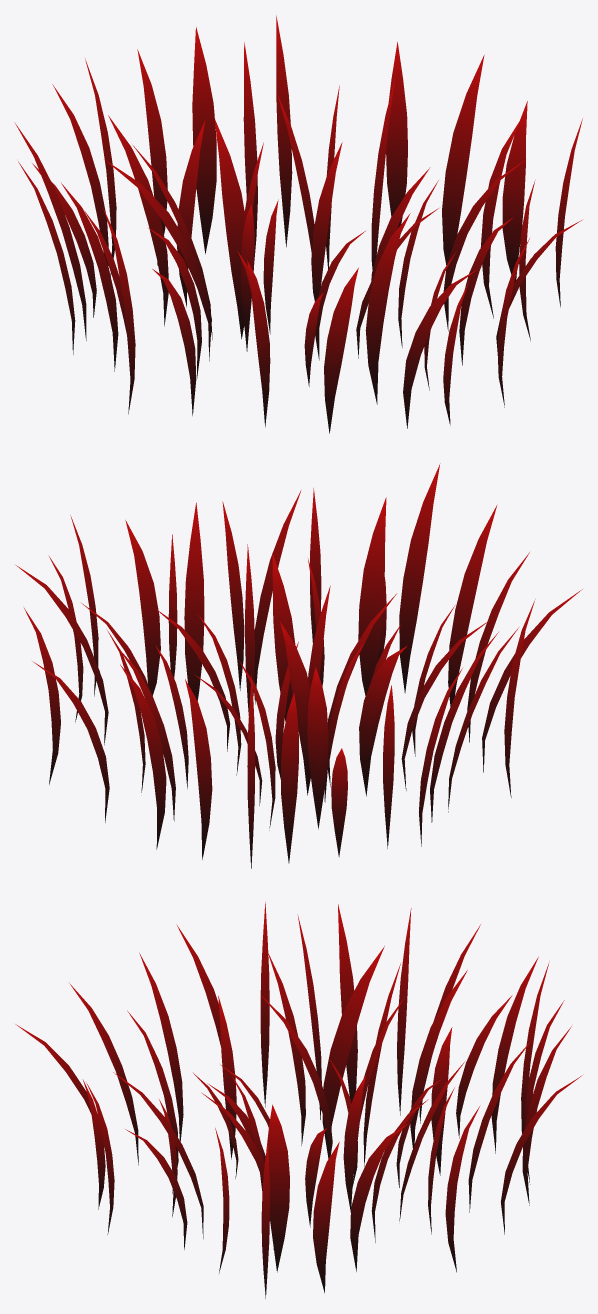
File: Grass.fbx
3 views of the same model, one above another, from view 1: azimuth 30°, elevation 25°; view 2: azimuth 150°, elevation 25°; view 3: azimuth 270°, elevation 25° (orthographic). The views are drawn at different scales.
Parts seen in each view (by area): view 1: Plane.024; view 2: Plane.024; view 3: Plane.024.
Part boxes in pixels (x1,y1,x2,y2): Plane.024: [14, 15, 582, 433]; Plane.024: [16, 463, 582, 868]; Plane.024: [15, 902, 582, 1298].
Size of the model in its own units: 2.92 by 1.24 by 3.25.
